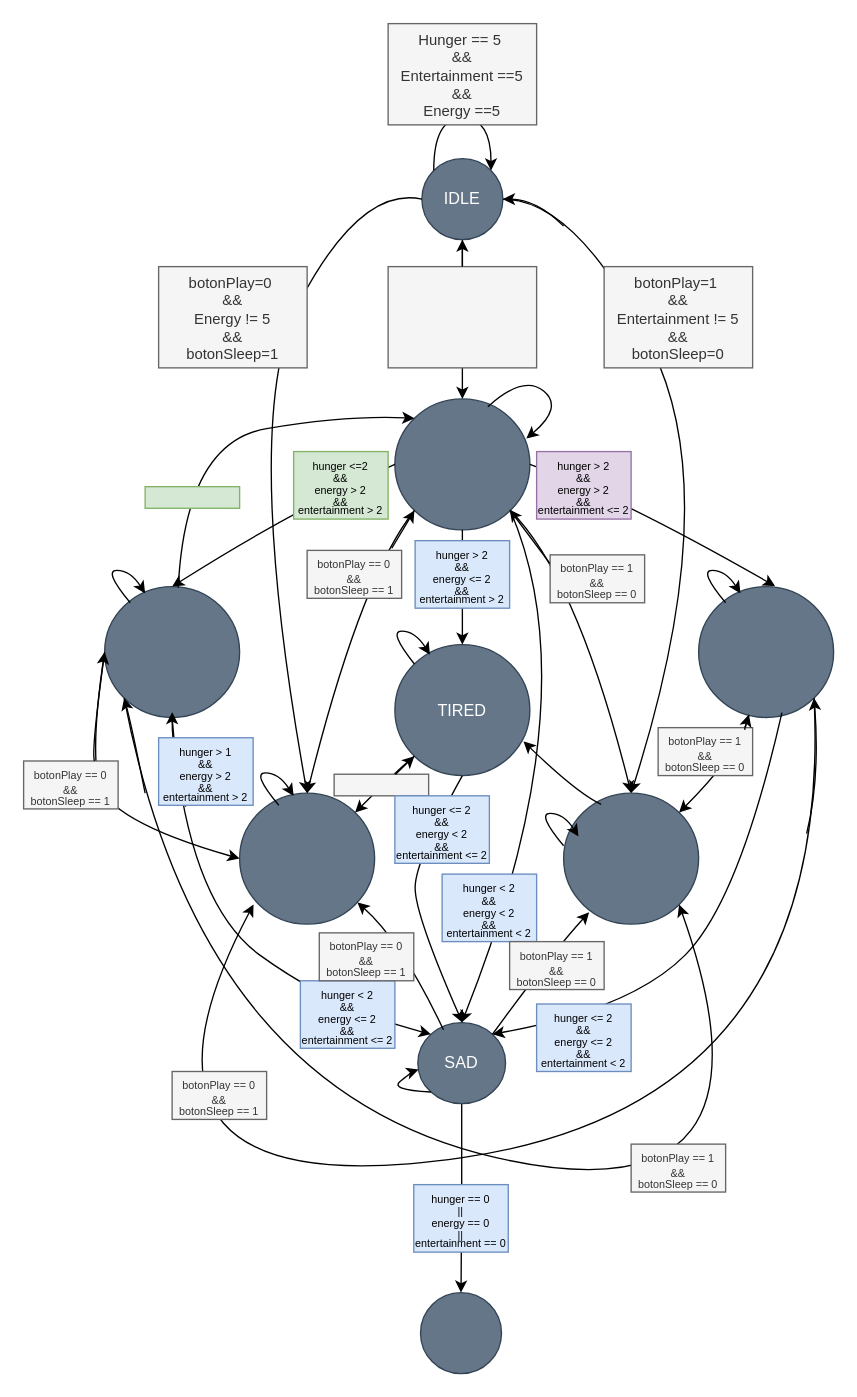
The diagram is 857 pixels wide and 1397 high, and some of its shapes have lost their labels. The centre of each missing label's shape, as x and y in pixels:
BORED: [765,651]
botonSleep == 1: [381,784]
DEATH: [460,1332]
Hunger < 5 || Entertainment < 5 || Energy < 5: [462,316]
hunger >2: [192,496]
HUNGRY: [171,651]
NEUTRAL: [462,464]
PLAYING: [630,858]
SLEEP: [306,858]
